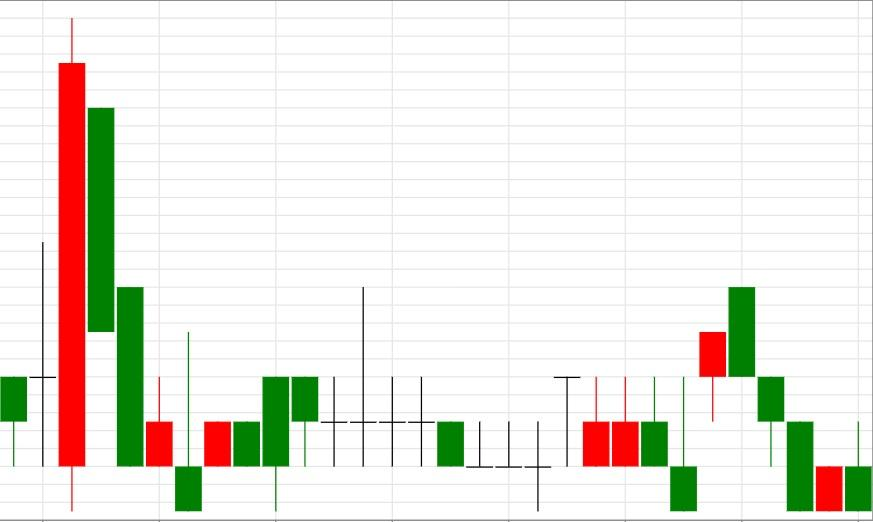inverse_hammer_rise: (58, 16, 203, 512), (554, 376, 697, 511)
three_black_crows_fall: (671, 288, 814, 512)
